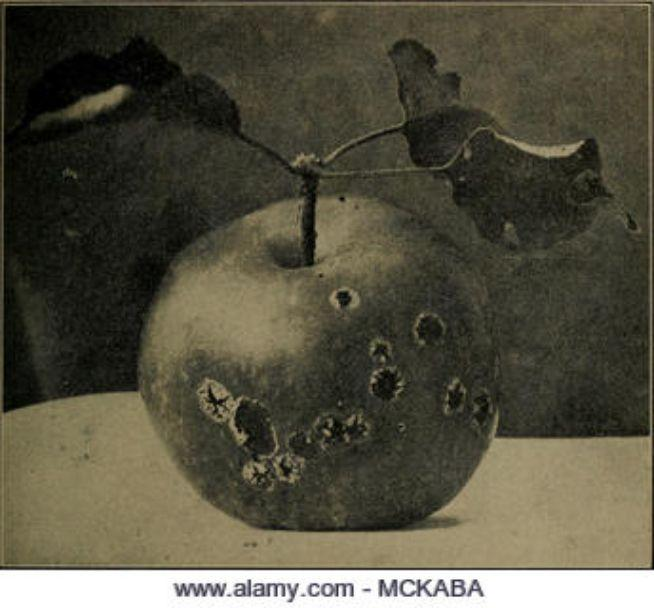SCAB: (135, 172, 529, 527)
